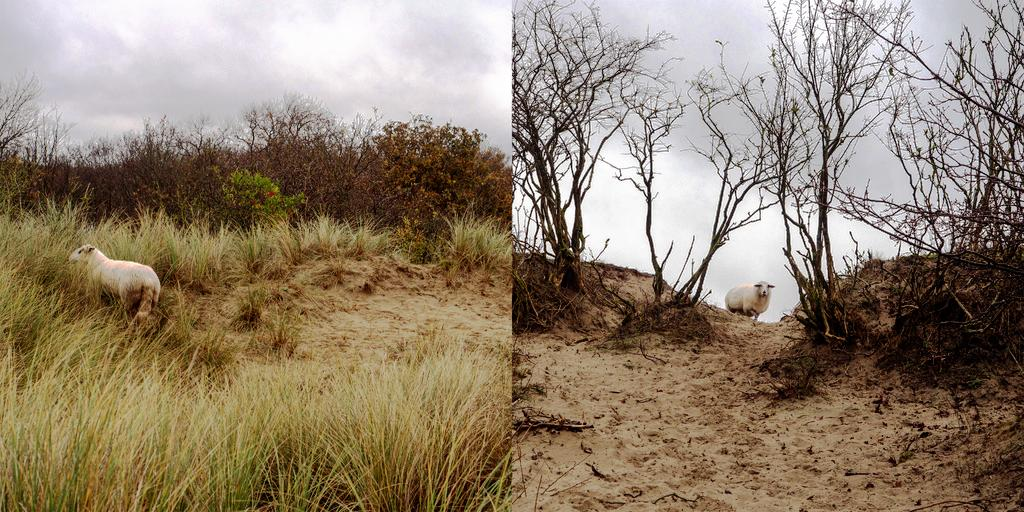Sheep: (72, 242, 158, 318), (728, 284, 774, 324)
